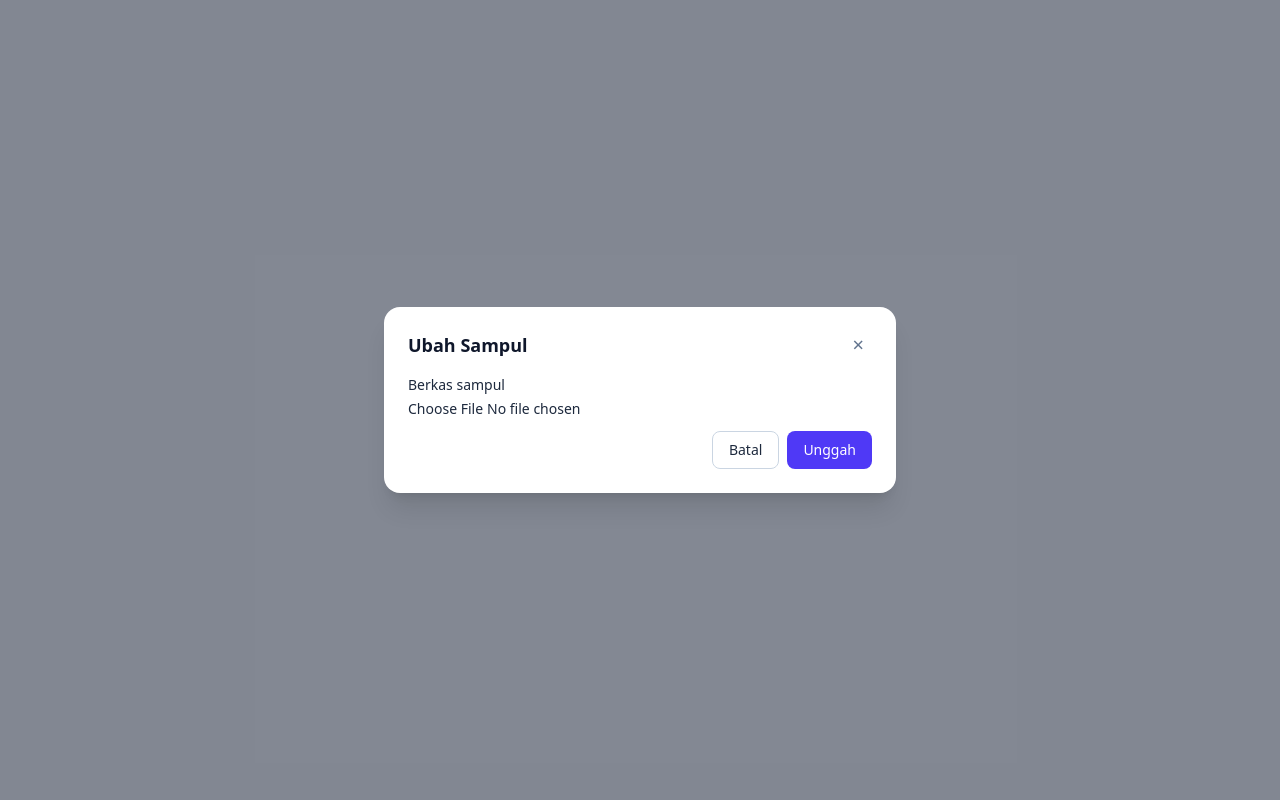
Test case: ChangeCoverModal › meminta berkas jika belum dipilih
Click the button "Unggah" at (830, 450), box [787,431,872,469]
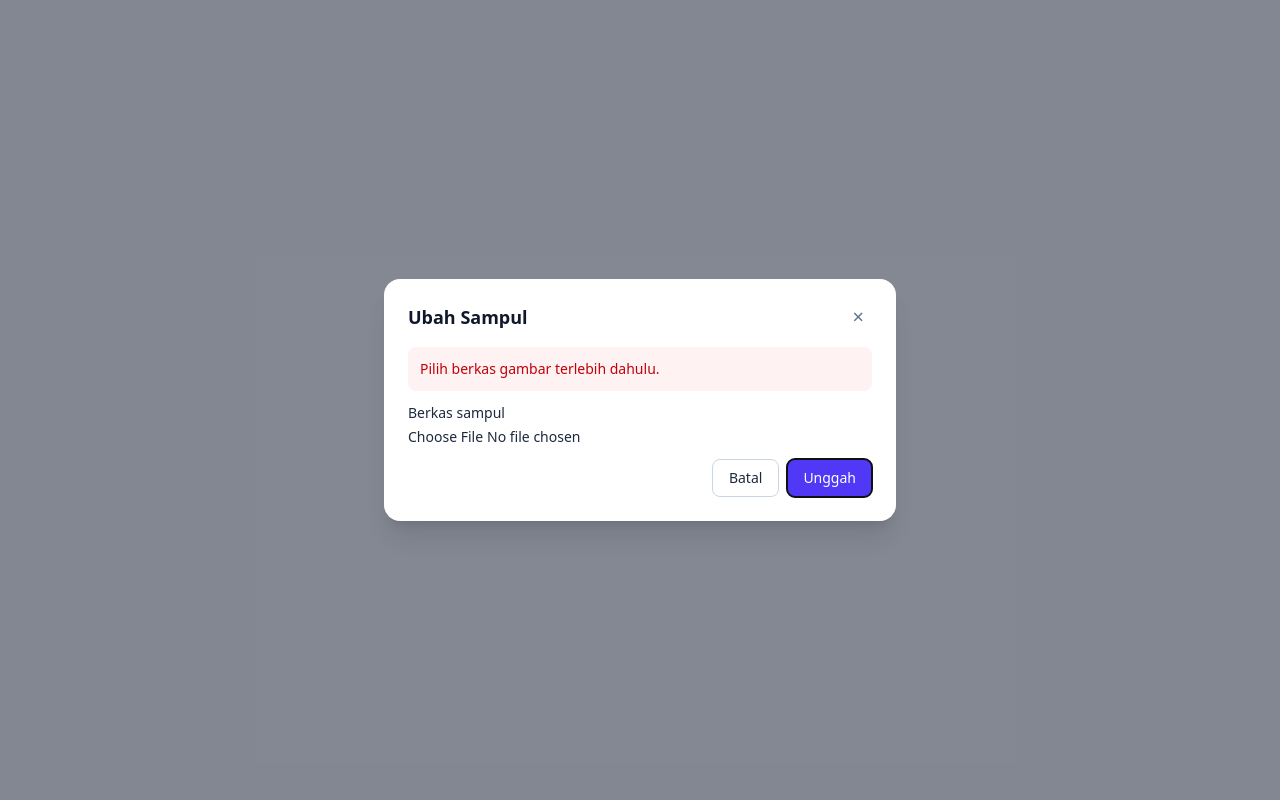
Check: the message reads "Pilih berkas gambar terlebih dahulu.", box [420,359,660,378]
